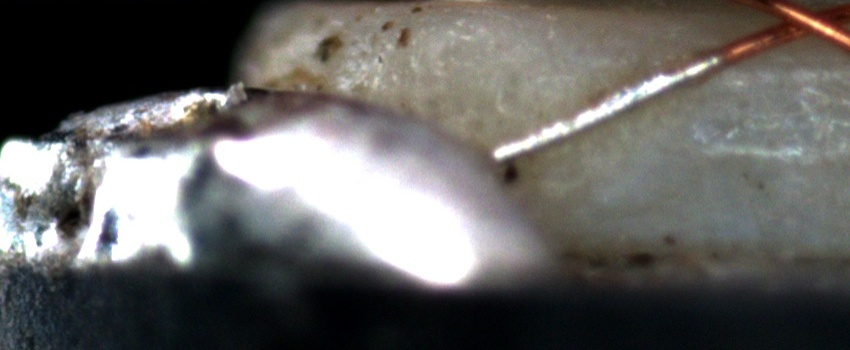CL: (753, 2, 837, 46)
DL: (670, 54, 850, 102), (684, 128, 850, 176)
TS: (492, 51, 723, 164)
